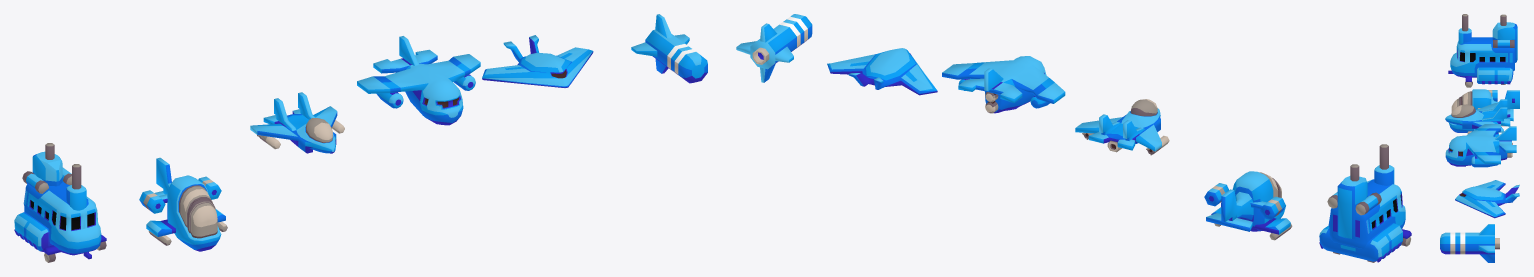
The model's file is Air_Unit_Blue.glb.
3 views of the same model, side by side, from view 1: azimuth 30°, elevation 25°; view 2: azimuth 150°, elevation 25°; view 3: azimuth 270°, elevation 25° (orthographic). The views are drawn at different scales.
Visible parts, largest first — view 1: TCopter.Body.BlueMoon, Bomber.BlueMoon, BCopter.BlueMoon, Stealth.B.BlueMoon, Fighter.BlueMoon, BlackBomb.Body.BlueMoon; view 2: TCopter.Body.BlueMoon, Bomber.BlueMoon, BCopter.BlueMoon, Stealth.B.BlueMoon, Fighter.BlueMoon, BlackBomb.Body.BlueMoon; view 3: TCopter.Body.BlueMoon, Bomber.BlueMoon, BlackBomb.Body.BlueMoon, Stealth.B.BlueMoon, Fighter.BlueMoon, BCopter.BlueMoon.
Part boxes in pixels (x1=…): TCopter.Body.BlueMoon: x1=14, y1=143, x2=106, y2=262; Bomber.BlueMoon: x1=357, y1=36, x2=480, y2=125; BCopter.BlueMoon: x1=139, y1=157, x2=225, y2=251; Stealth.B.BlueMoon: x1=482, y1=35, x2=593, y2=87; Fighter.BlueMoon: x1=250, y1=92, x2=337, y2=153; BlackBomb.Body.BlueMoon: x1=631, y1=14, x2=707, y2=83; TCopter.Body.BlueMoon: x1=1319, y1=144, x2=1411, y2=262; Bomber.BlueMoon: x1=942, y1=56, x2=1065, y2=113; BCopter.BlueMoon: x1=1204, y1=171, x2=1290, y2=234; Stealth.B.BlueMoon: x1=827, y1=48, x2=937, y2=95; Fighter.BlueMoon: x1=1075, y1=99, x2=1161, y2=152; BlackBomb.Body.BlueMoon: x1=736, y1=14, x2=812, y2=82; TCopter.Body.BlueMoon: x1=1448, y1=14, x2=1517, y2=87; Bomber.BlueMoon: x1=1445, y1=124, x2=1516, y2=167; BlackBomb.Body.BlueMoon: x1=1440, y1=224, x2=1499, y2=262; Stealth.B.BlueMoon: x1=1455, y1=180, x2=1519, y2=218; Fighter.BlueMoon: x1=1445, y1=99, x2=1510, y2=132; BCopter.BlueMoon: x1=1448, y1=89, x2=1519, y2=132.
Size of the model in its own units: 16.43 by 2.94 by 2.52.
Materials: 1 (1 with a texture image).
